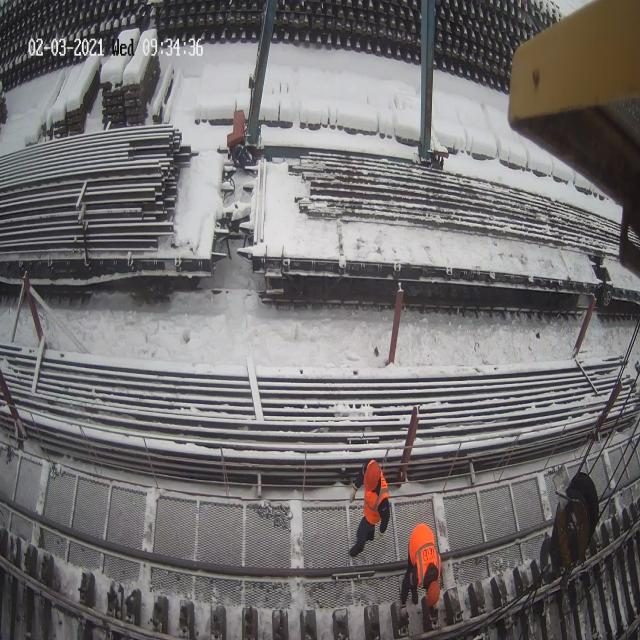Helmet: (408, 523, 434, 566), (364, 459, 381, 492), (426, 580, 440, 607)
Person: (349, 458, 390, 558), (400, 522, 441, 610)
